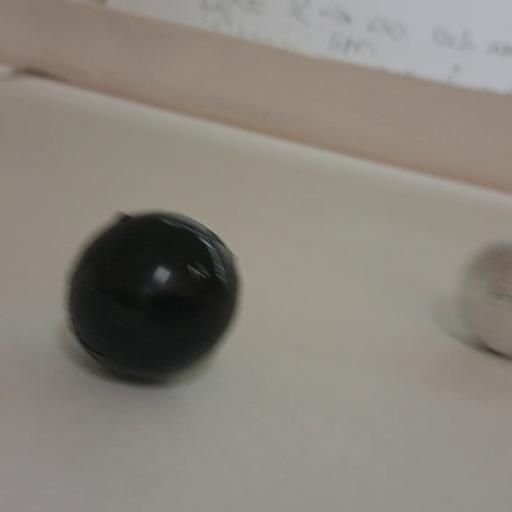alive: (453, 238, 512, 364)
dead: (65, 209, 239, 383)
